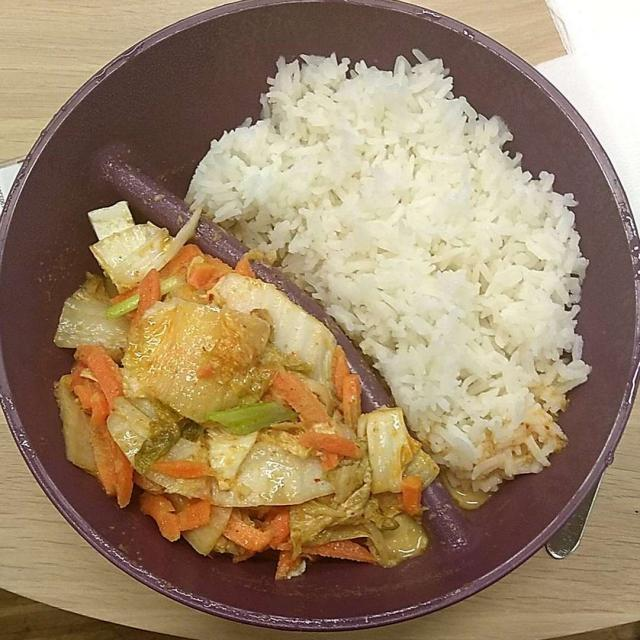rice: (193, 53, 593, 498)
salad: (42, 197, 431, 562)
